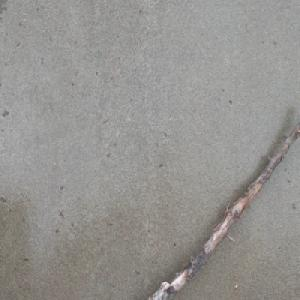Wood: (145, 115, 300, 300)
